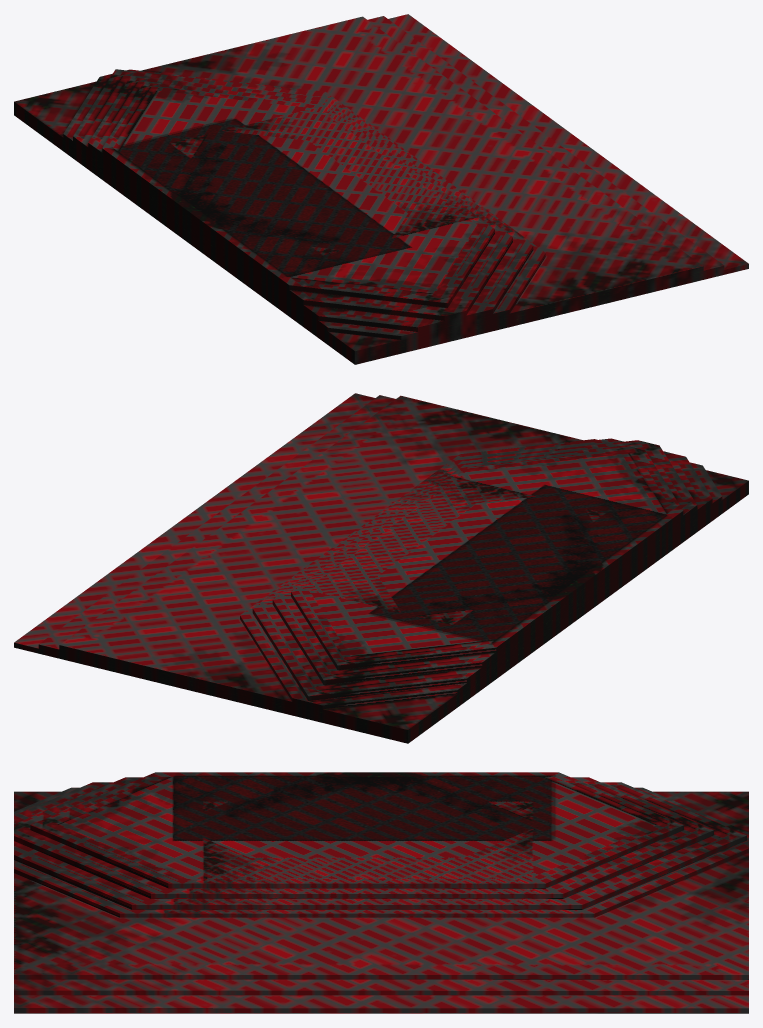
3 renders of one model, top to bottom at view 1: azimuth 30°, elevation 25°; view 2: azimuth 150°, elevation 25°; view 3: azimuth 270°, elevation 25°, orthographic. The views are drawn at different scales.
Parts seen in each view (by area): view 1: stairfloor.005; view 2: stairfloor.005; view 3: stairfloor.005.
Boxes of the visible parts, <box> form: stairfloor.005: <box>14,14,748,364</box>; stairfloor.005: <box>14,393,748,743</box>; stairfloor.005: <box>14,772,748,1013</box>.
Size of the model in its own units: 6.45 by 0.4942 by 9.66.
1 material, 1 textured.
